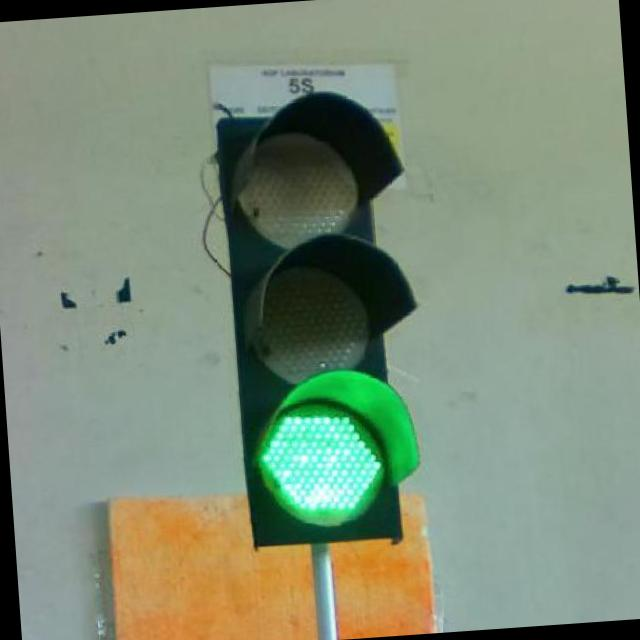green-lights: (231, 368, 435, 537)
